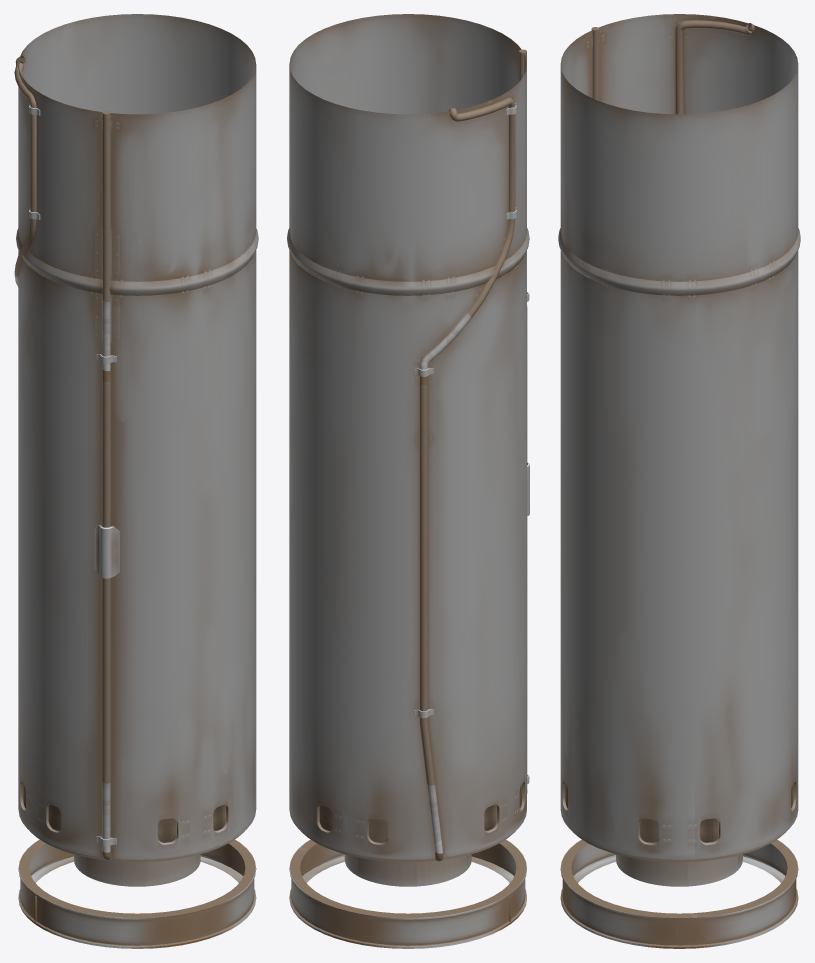
File: SM_Rocket01.fbx
The picture shows the model from 3 angles, left to right: view 1: azimuth 30°, elevation 25°; view 2: azimuth 150°, elevation 25°; view 3: azimuth 270°, elevation 25°; orthographic projection.
Visible parts, largest first — view 1: SM_Rocket01_LOD0; view 2: SM_Rocket01_LOD0; view 3: SM_Rocket01_LOD0.
Boxes of the visible parts, <box> form: SM_Rocket01_LOD0: <box>14,14,258,948</box>; SM_Rocket01_LOD0: <box>287,14,529,948</box>; SM_Rocket01_LOD0: <box>558,14,800,948</box>.
Bounding box in the file's own units: 1033 × 1020 × 3882.
Materials: 1 (1 with a texture image).
